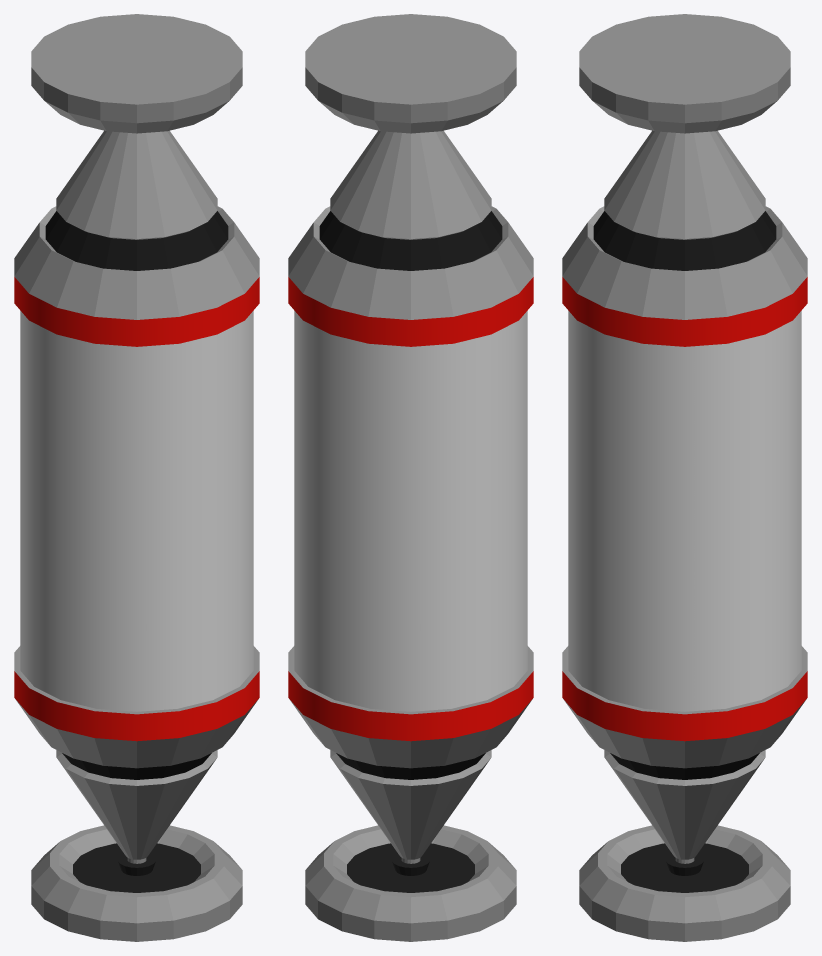
File: Power_Core_Bases.fbx
3 renders of one model, left to right at view 1: azimuth 30°, elevation 25°; view 2: azimuth 150°, elevation 25°; view 3: azimuth 270°, elevation 25°, orthographic.
Parts seen in each view (by area): view 1: Cylinder048, Cylinder049, Cylinder050, Base_Top, Base_Bottom; view 2: Cylinder048, Cylinder049, Cylinder050, Base_Top, Base_Bottom; view 3: Cylinder048, Cylinder049, Cylinder050, Base_Top, Base_Bottom.
Part boxes in pixels (box(x1,y1,x2,y2)): Cylinder048: box(20, 311, 253, 711); Cylinder049: box(14, 130, 259, 346); Cylinder050: box(14, 646, 259, 863); Base_Top: box(31, 14, 242, 133); Base_Bottom: box(31, 825, 242, 941); Cylinder048: box(294, 311, 527, 711); Cylinder049: box(288, 130, 533, 346); Cylinder050: box(288, 646, 533, 863); Base_Top: box(305, 14, 516, 133); Base_Bottom: box(305, 825, 516, 941); Cylinder048: box(568, 311, 801, 711); Cylinder049: box(562, 130, 807, 346); Cylinder050: box(562, 646, 807, 863); Base_Top: box(579, 14, 790, 133); Base_Bottom: box(579, 825, 790, 941).
Size of the model in its own units: 42 by 156 by 41.36.
